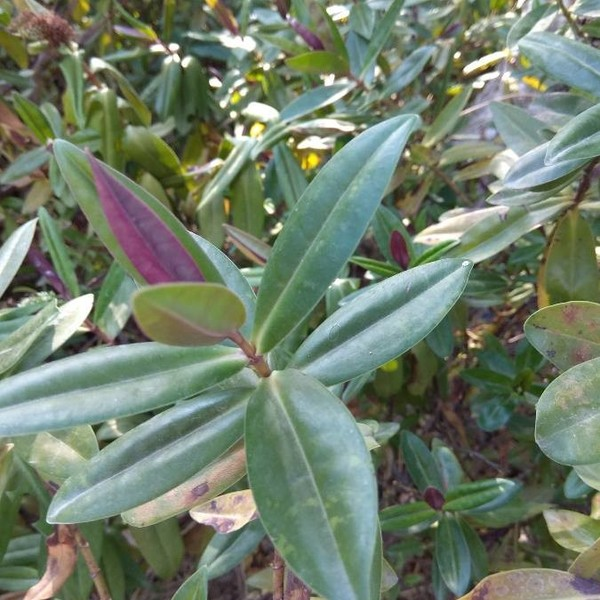obstacle: (44, 123, 449, 577)
